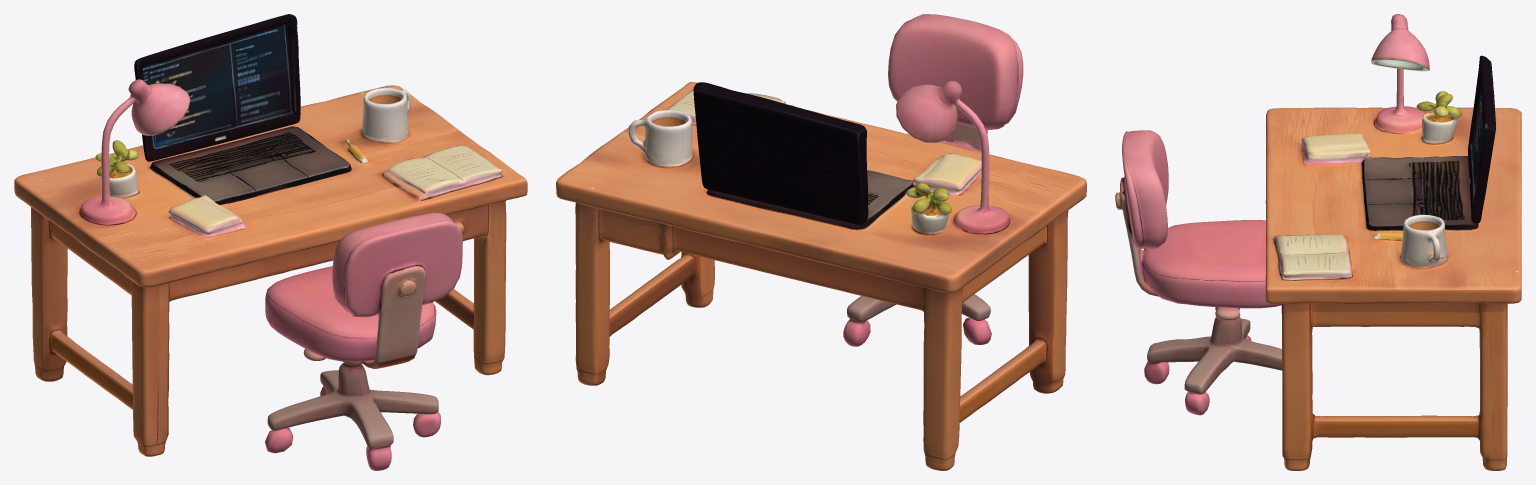
Rendered from desk.glb.
The picture shows the model from 3 angles, left to right: view 1: azimuth 30°, elevation 25°; view 2: azimuth 150°, elevation 25°; view 3: azimuth 270°, elevation 25°; orthographic projection. The views are drawn at different scales.
Parts seen in each view (by area): view 1: model; view 2: model; view 3: model.
Part boxes in pixels (<box>): model: <box>14,14,527,470</box>; model: <box>556,14,1086,470</box>; model: <box>1115,14,1521,470</box>.
Bounding box in the file's own units: 1.89 × 1.53 × 1.79.
1 material, 1 textured.
